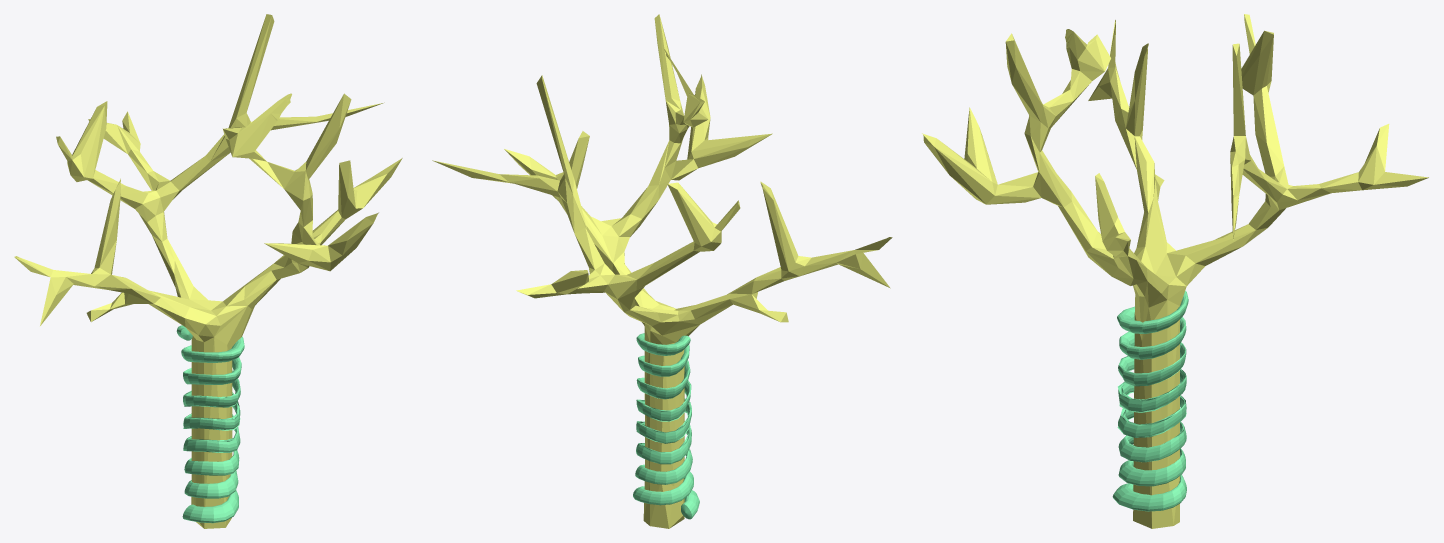
The model's file is tress3.fbx.
3 views of the same model, side by side, from view 1: azimuth 30°, elevation 25°; view 2: azimuth 150°, elevation 25°; view 3: azimuth 270°, elevation 25° (orthographic). The views are drawn at different scales.
Parts seen in each view (by area): view 1: PM3D_Cylinder3D1, PM3D_Helix3D_1; view 2: PM3D_Cylinder3D1, PM3D_Helix3D_1; view 3: PM3D_Cylinder3D1, PM3D_Helix3D_1.
Boxes of the visible parts, x1,y1,x2,y2 form: PM3D_Cylinder3D1: (14, 14, 402, 528); PM3D_Helix3D_1: (176, 325, 244, 523); PM3D_Cylinder3D1: (432, 14, 892, 528); PM3D_Helix3D_1: (633, 333, 699, 519); PM3D_Cylinder3D1: (922, 14, 1428, 528); PM3D_Helix3D_1: (1112, 291, 1188, 511).
Size of the model in its own units: 4.56 by 4.73 by 4.13.
